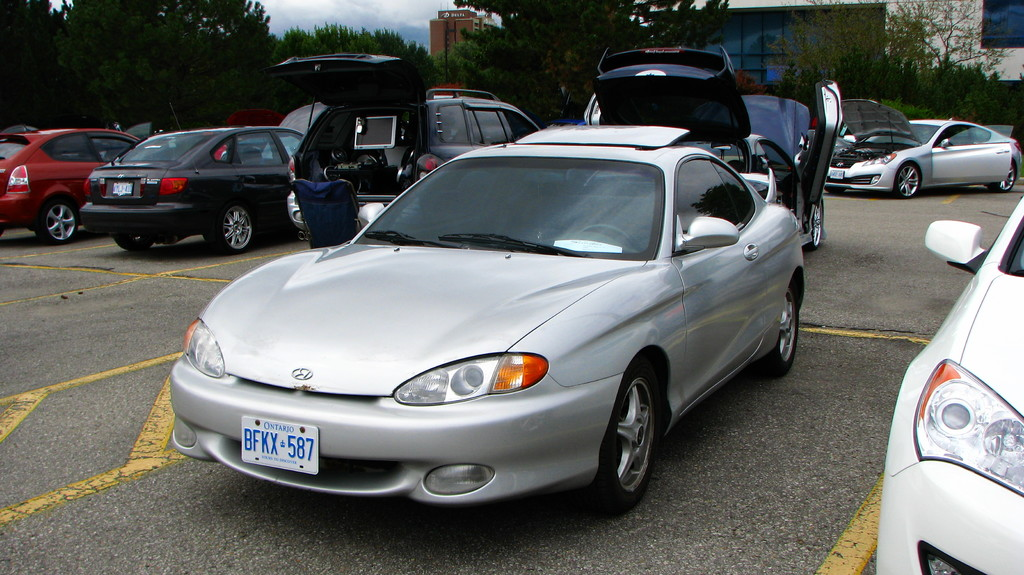Car: (0, 45, 1023, 574)
